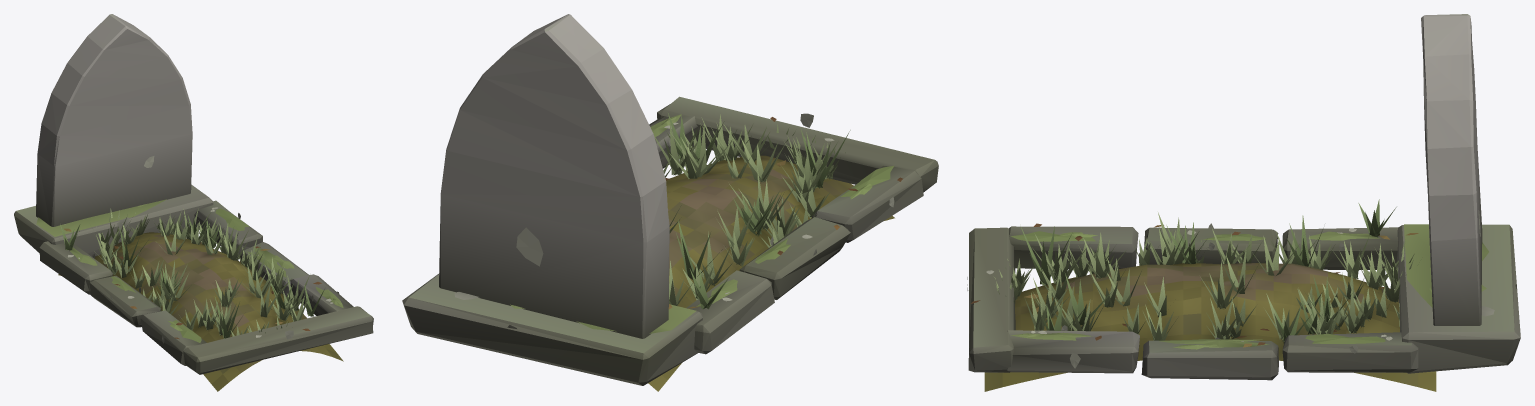
The model's file is grave_gothic.glb.
3 views of the same model, side by side, from view 1: azimuth 30°, elevation 25°; view 2: azimuth 150°, elevation 25°; view 3: azimuth 270°, elevation 25° (orthographic). The views are drawn at different scales.
Visible parts, largest first — view 1: grave_gothic; view 2: grave_gothic; view 3: grave_gothic.
Boxes of the visible parts, <box> form: grave_gothic: <box>14,14,373,391</box>; grave_gothic: <box>402,14,938,391</box>; grave_gothic: <box>967,14,1520,391</box>.
Size of what is drawn, in the model's own units: 1.7 by 2.12 by 3.18.
